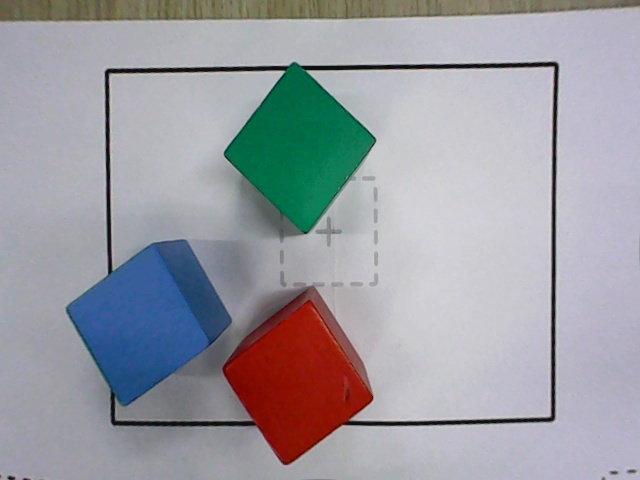upside of big cube: (223, 61, 375, 234), (221, 302, 373, 467), (64, 244, 214, 408)
